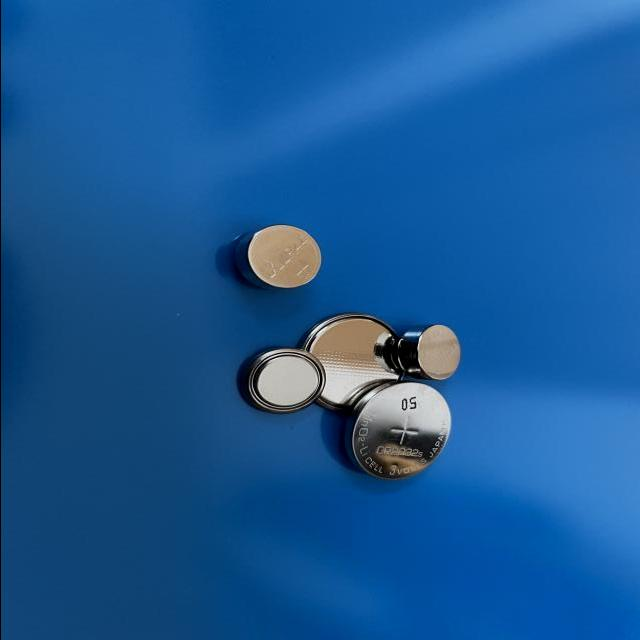COIN: (294, 312, 408, 417), (339, 379, 450, 482), (232, 222, 324, 291), (235, 348, 326, 416), (392, 322, 464, 382)
